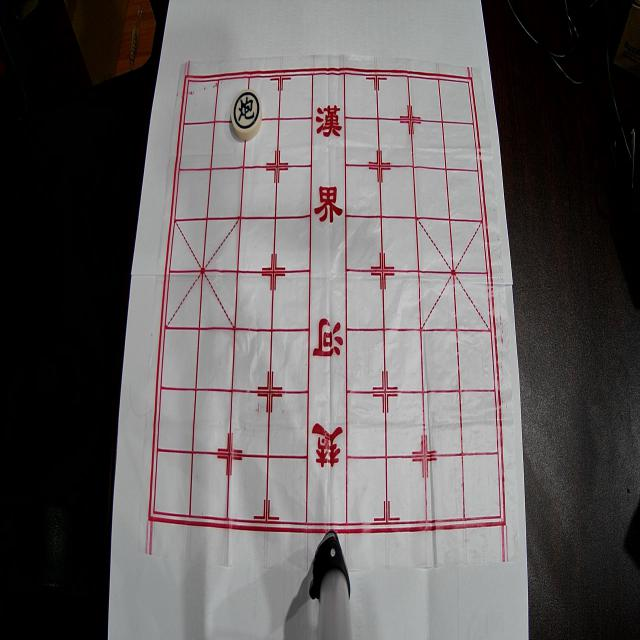black-cannon: (231, 90, 262, 140)
